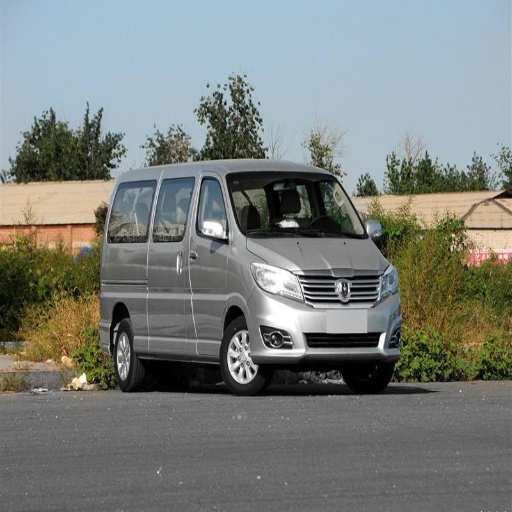front_bumper: (249, 271, 400, 365)
front_right_door: (171, 175, 229, 347)
front_right_light: (252, 262, 303, 300)
hood: (248, 238, 387, 275)
